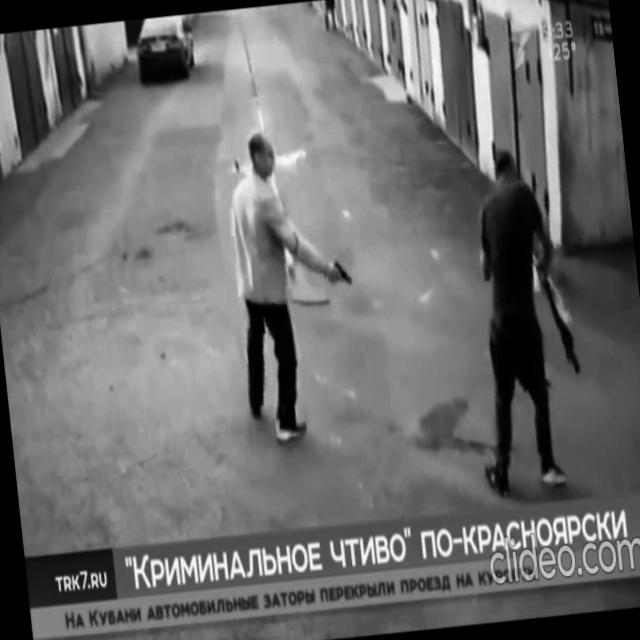gun: (331, 255, 354, 291)
person: (450, 140, 579, 503)
person with a gun: (218, 118, 370, 450)
